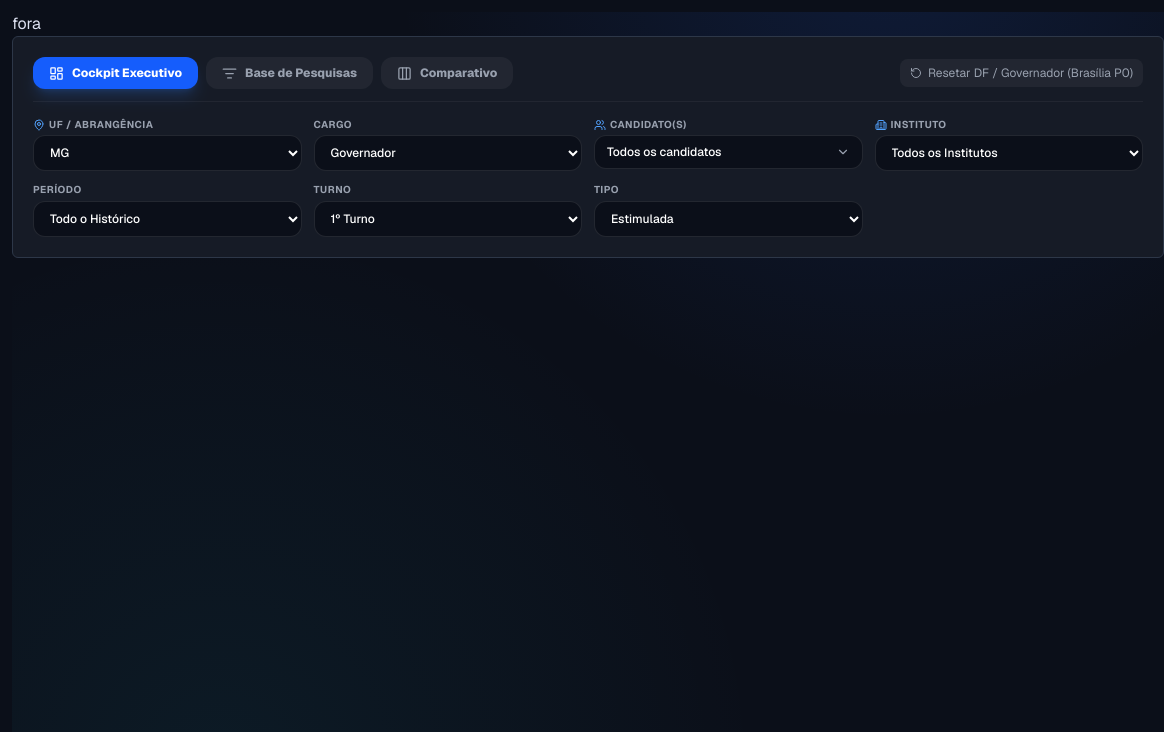
PesquisasFilterBar — dropdown de candidatos (P0.2 da auditoria) › fecha ao clicar fora
This screenshot has width=1164, height=732.
Click the button "Todos os candidatos". click: (664, 152)
box: [594,135,862,169]
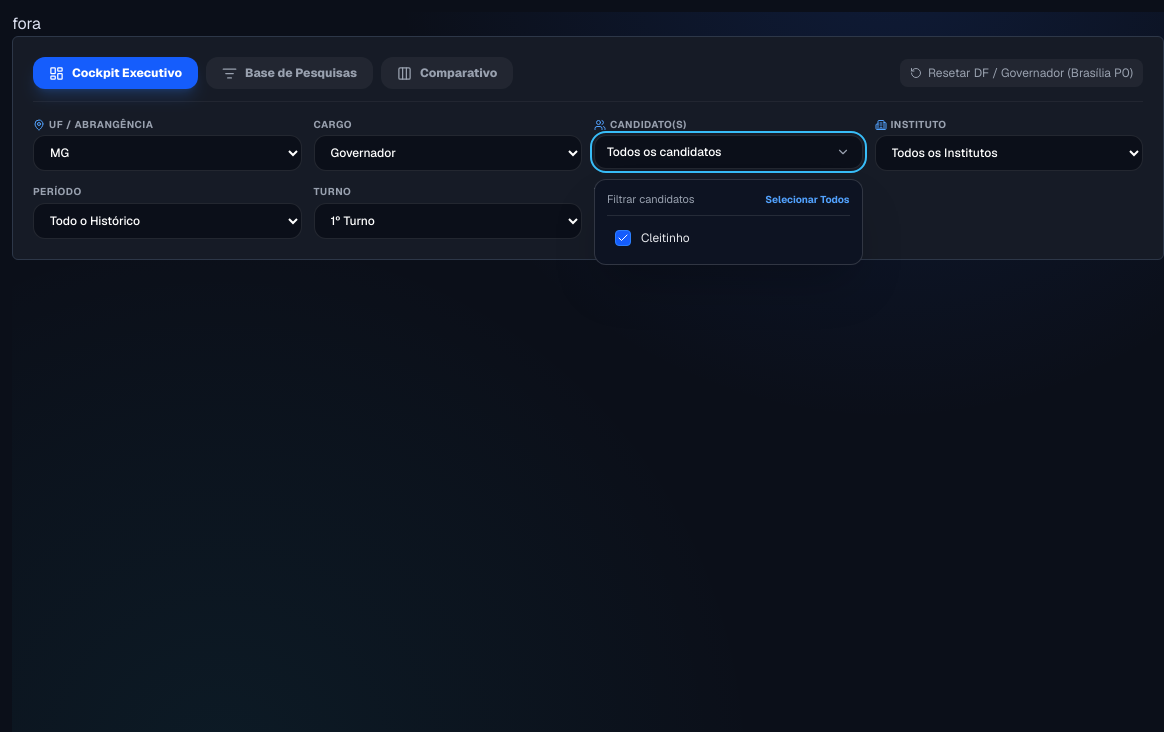
Check: the list is shown, box [594,179,862,265]
Click the text with test id "outside". click: (26, 24)
box: [12,13,41,34]
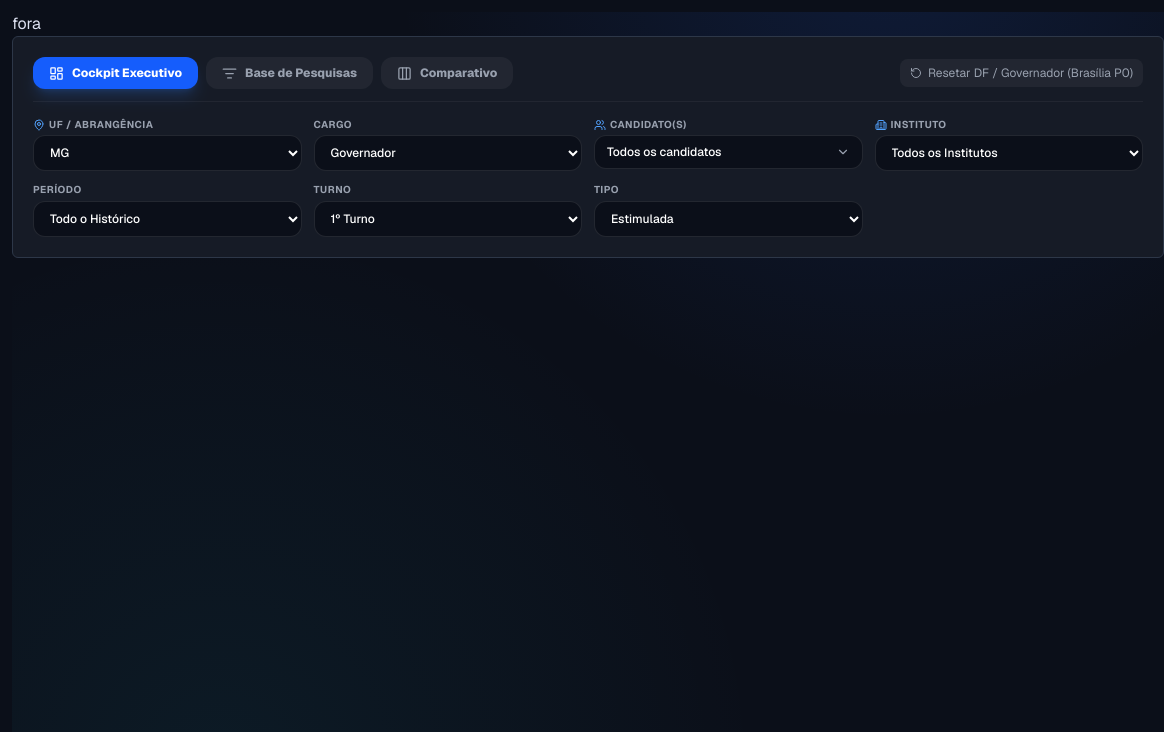
Check: the list is gone
